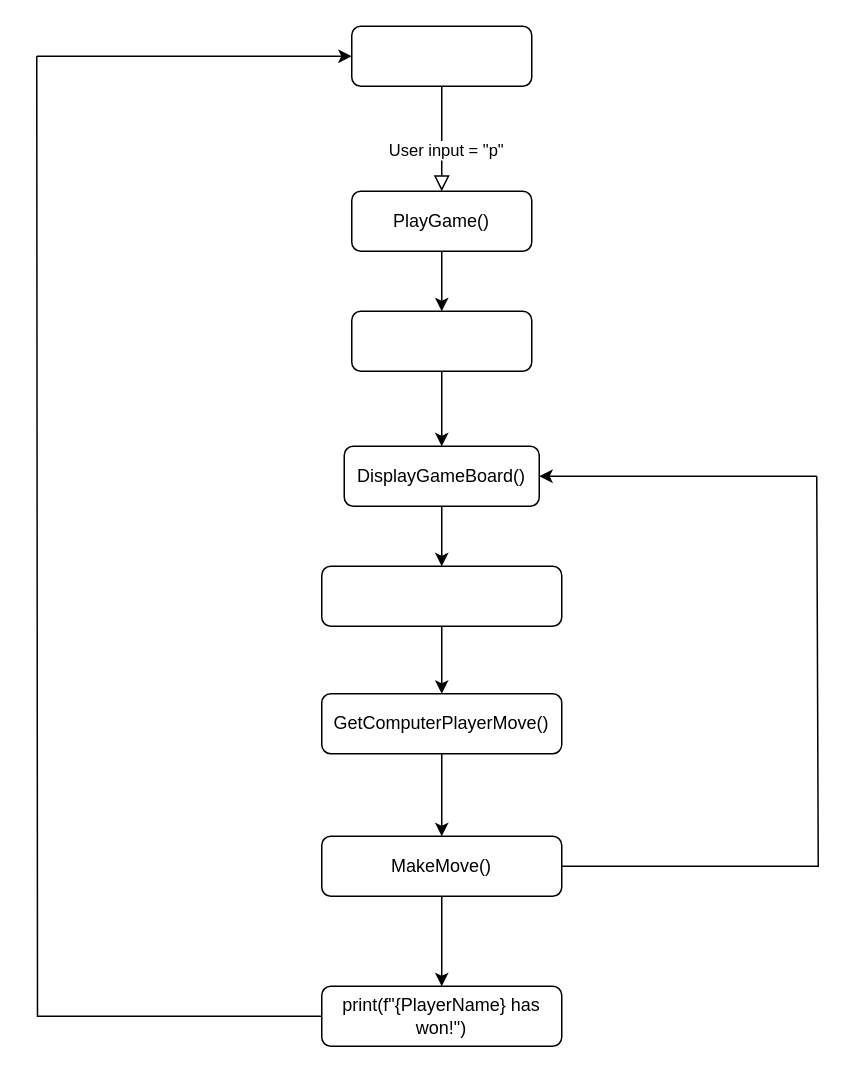
Image size: 855x1073. Some labels were removed from this diagram. The shapes that lost their labels are listed below. From the top down, each one's centre as x and y in pixels, then its label:
At [441,55]: "DisplayMenu()".
At [441,340]: "SetUpGameBoard".
At [441,595]: "GetHumanPlayerMove()".
